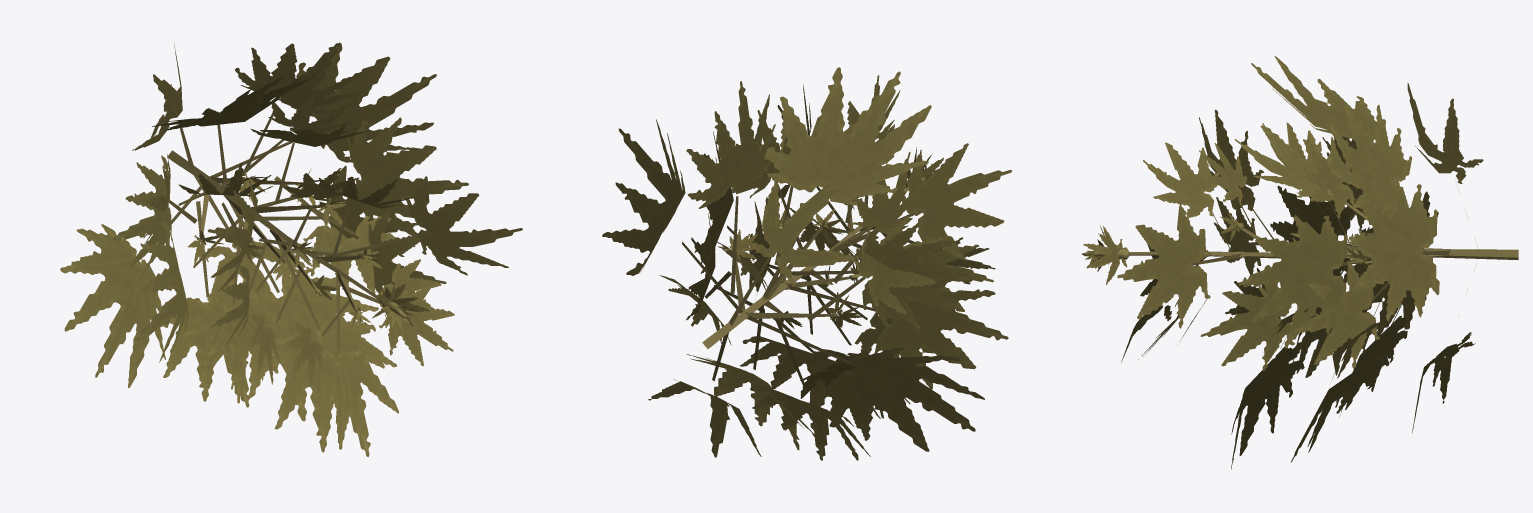
Rendered from p_haze_preflower_c2_cards.obj.
The picture shows the model from 3 angles, left to right: view 1: azimuth 30°, elevation 25°; view 2: azimuth 150°, elevation 25°; view 3: azimuth 270°, elevation 25°; orthographic projection. The views are drawn at different scales.
Bounding box in the file's own units: 1.71 × 1.59 × 1.48.
1 material, 1 textured.
